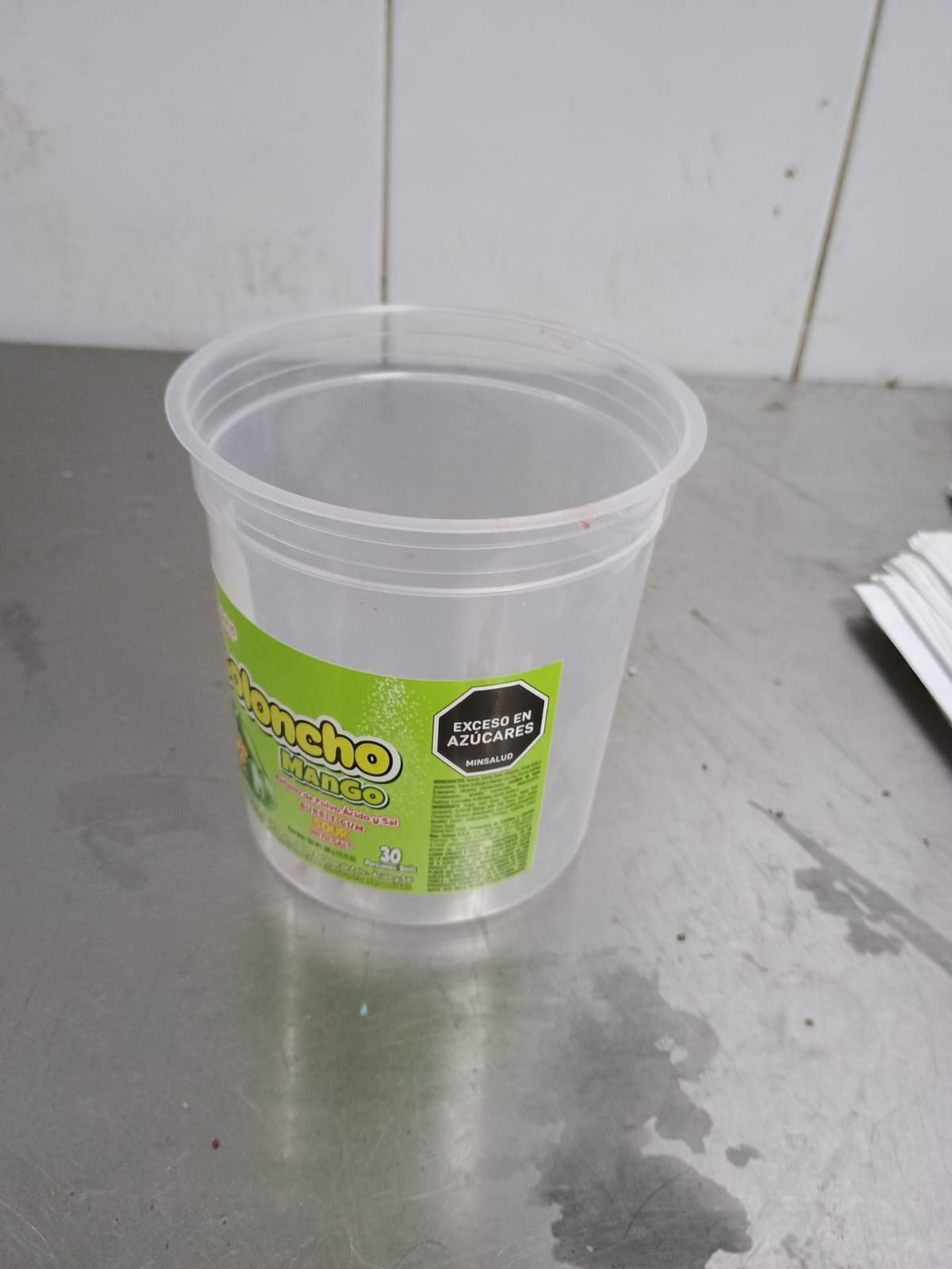Plastico: (163, 306, 708, 926)
